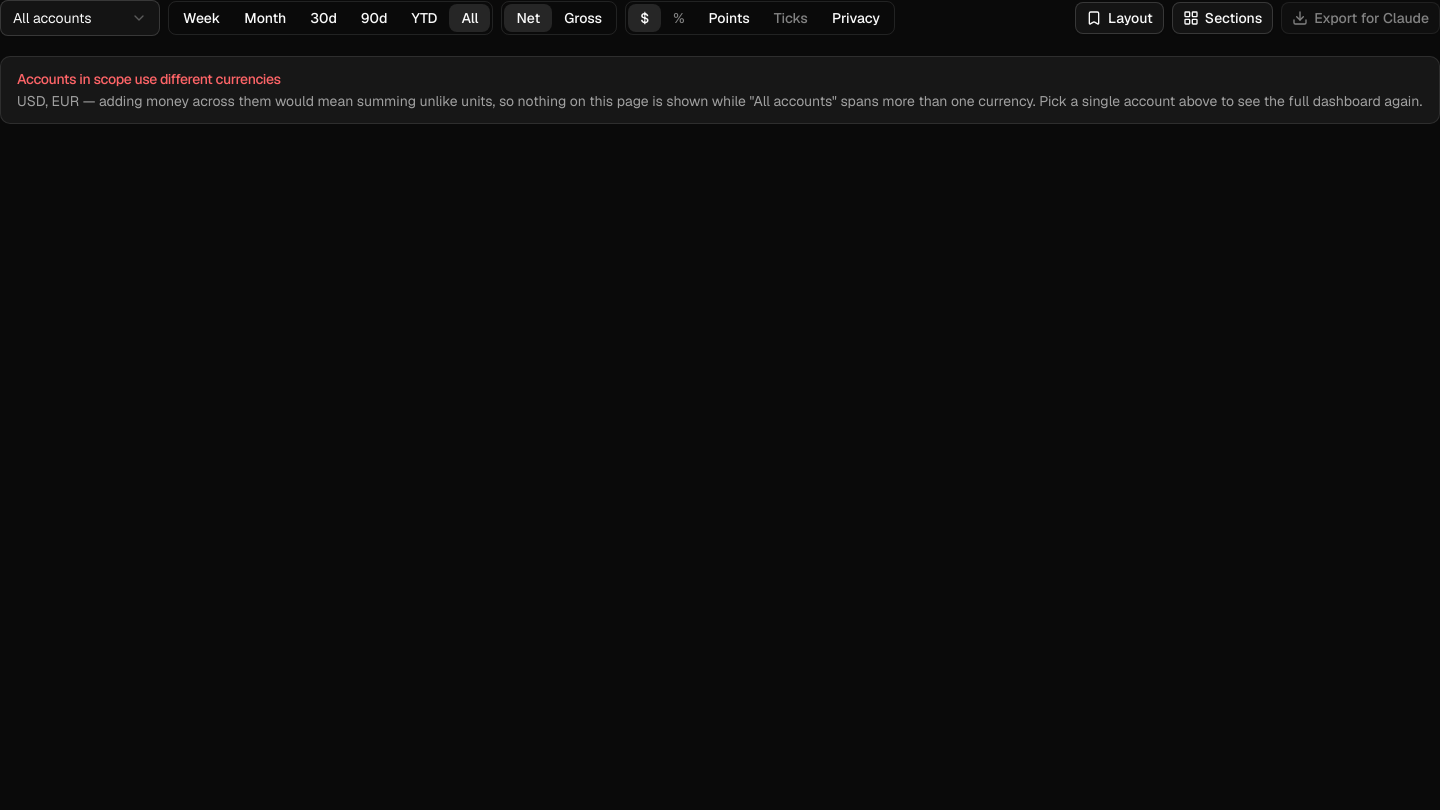
Test: mixed-currency accounts refuse to pool money, rather than summing unlike units › renders normally once narrowed to a single account
Click the dropdown "All accounts". click: coordinates (80, 18)
box: [0, 0, 160, 36]
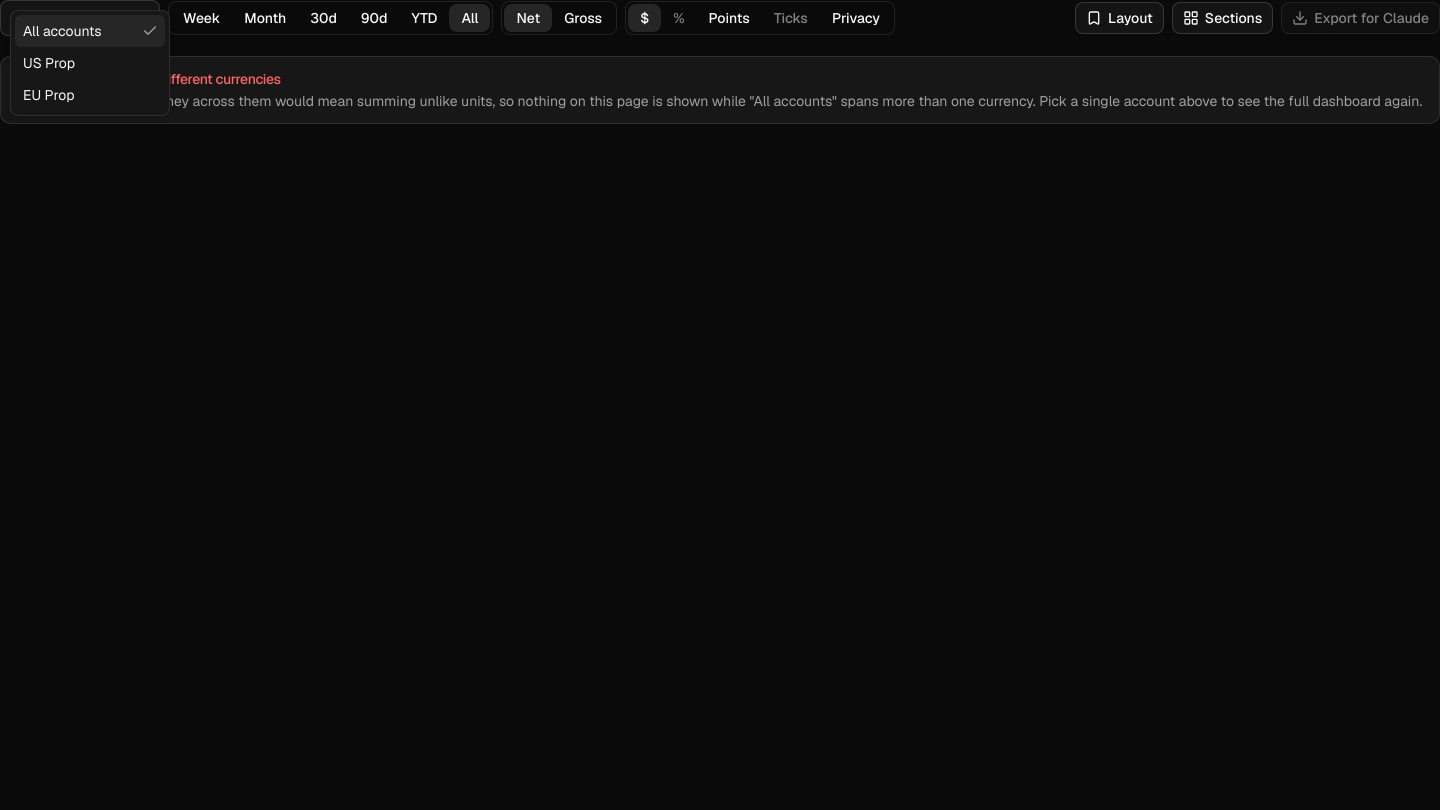
Click the option "US Prop". click: coordinates (49, 63)
box: [23, 54, 75, 72]
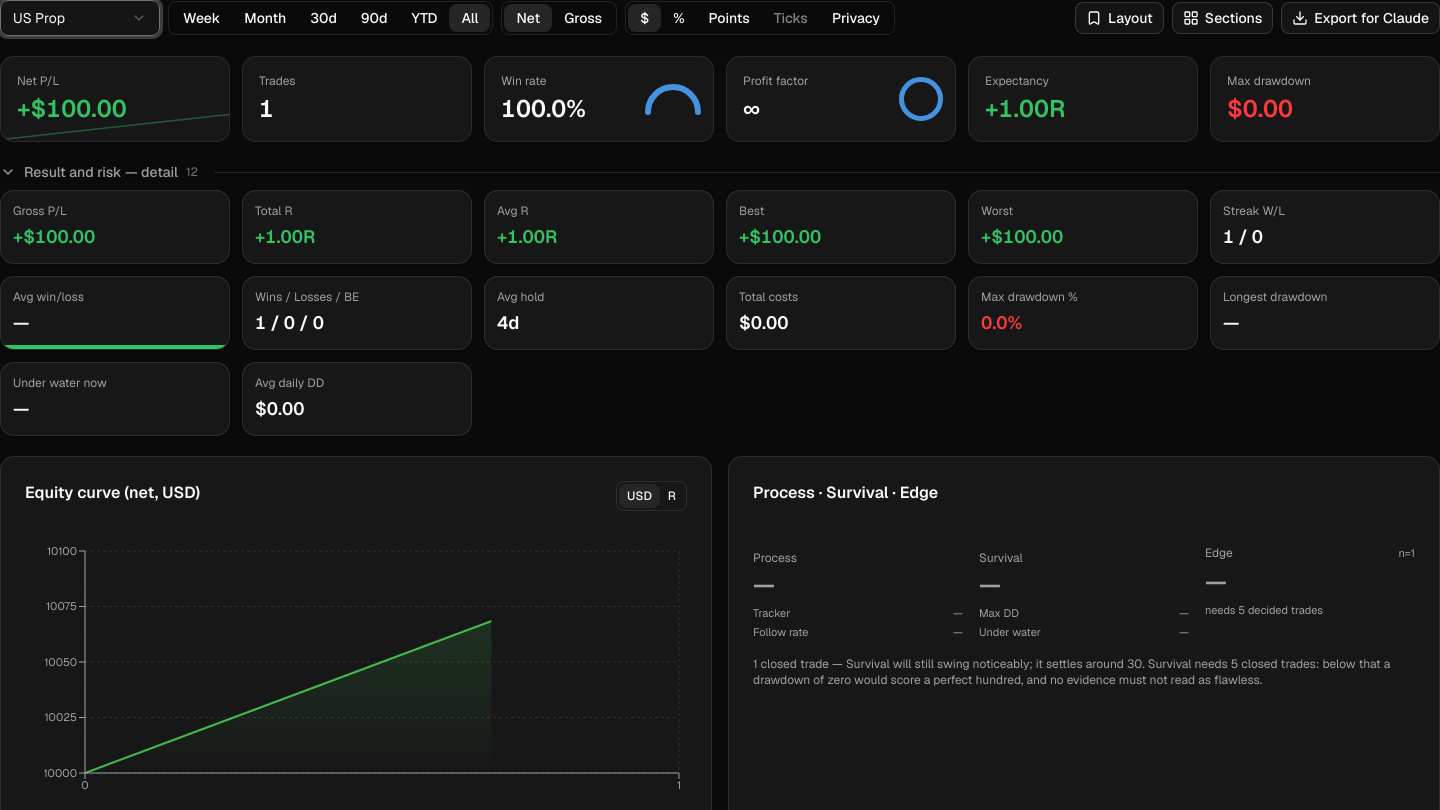
Expected: the heading "different currencies" is gone
